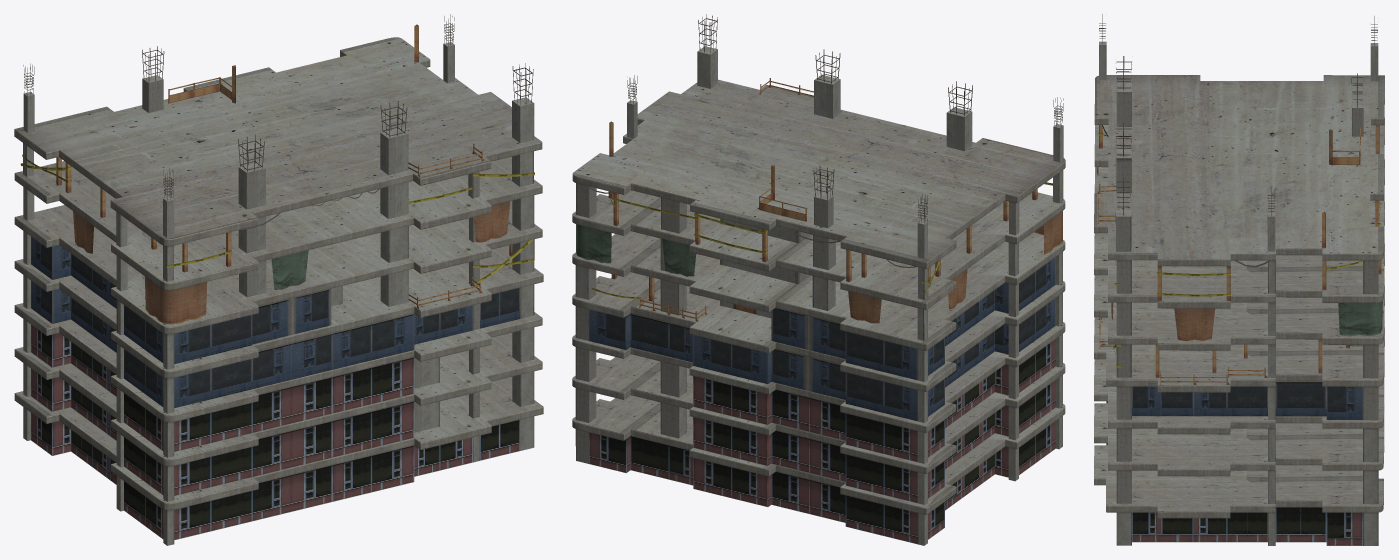
File: middle_build.fbx
3 views of the same model, side by side, from view 1: azimuth 30°, elevation 25°; view 2: azimuth 150°, elevation 25°; view 3: azimuth 270°, elevation 25° (orthographic). The views are drawn at different scales.
Parts seen in each view (by area): view 1: Middle; view 2: Middle; view 3: Middle.
Part boxes in pixels (x1,y1,x2,y2): Middle: (14,14,543,545); Middle: (572,14,1065,545); Middle: (1094,14,1384,545).
Size of the model in its own units: 1279 by 1167 by 851.
